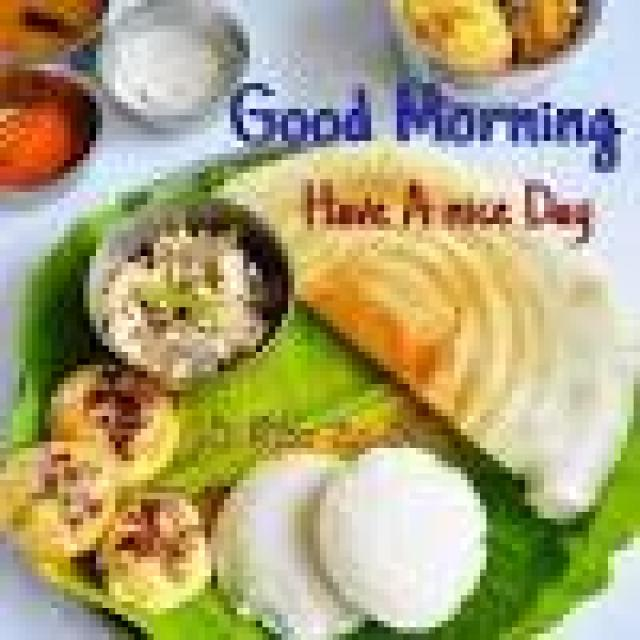dosa: (218, 147, 614, 499)
idli: (308, 442, 487, 627), (211, 442, 371, 634)
